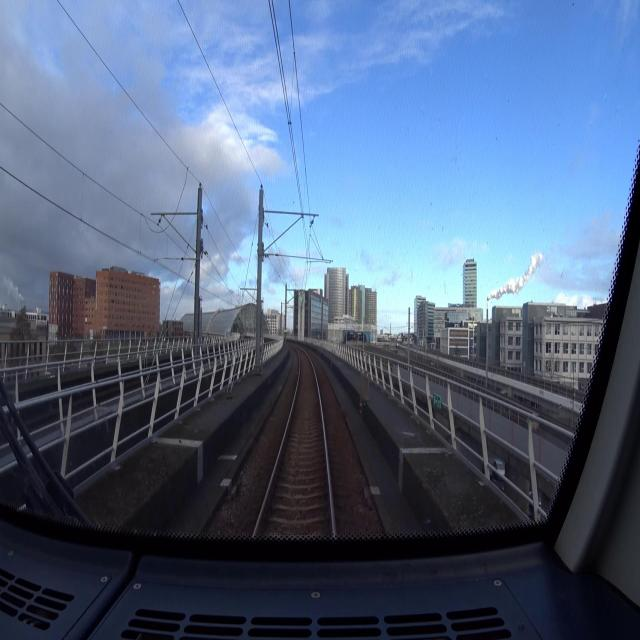rail-track: (256, 350, 331, 539)
